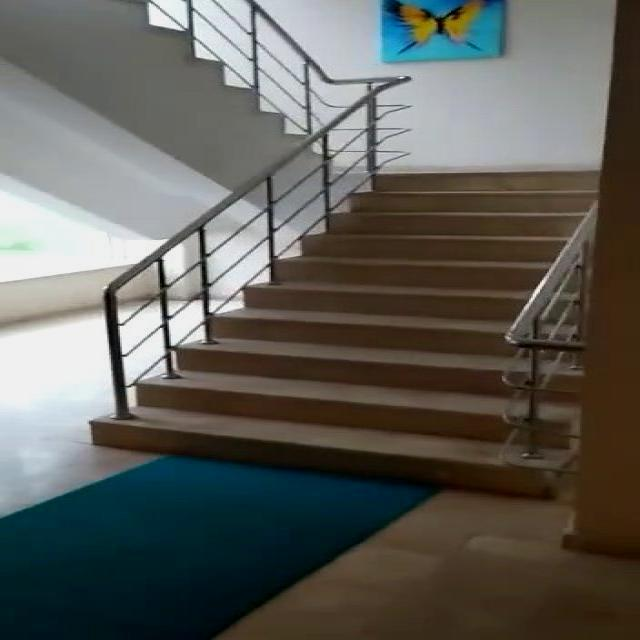stair: (96, 148, 611, 502)
